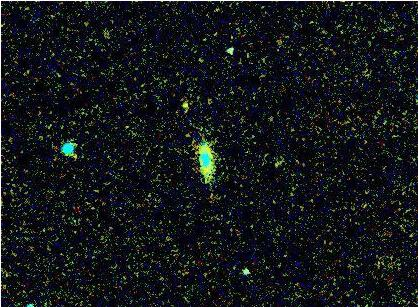star: (168, 92, 198, 122)
